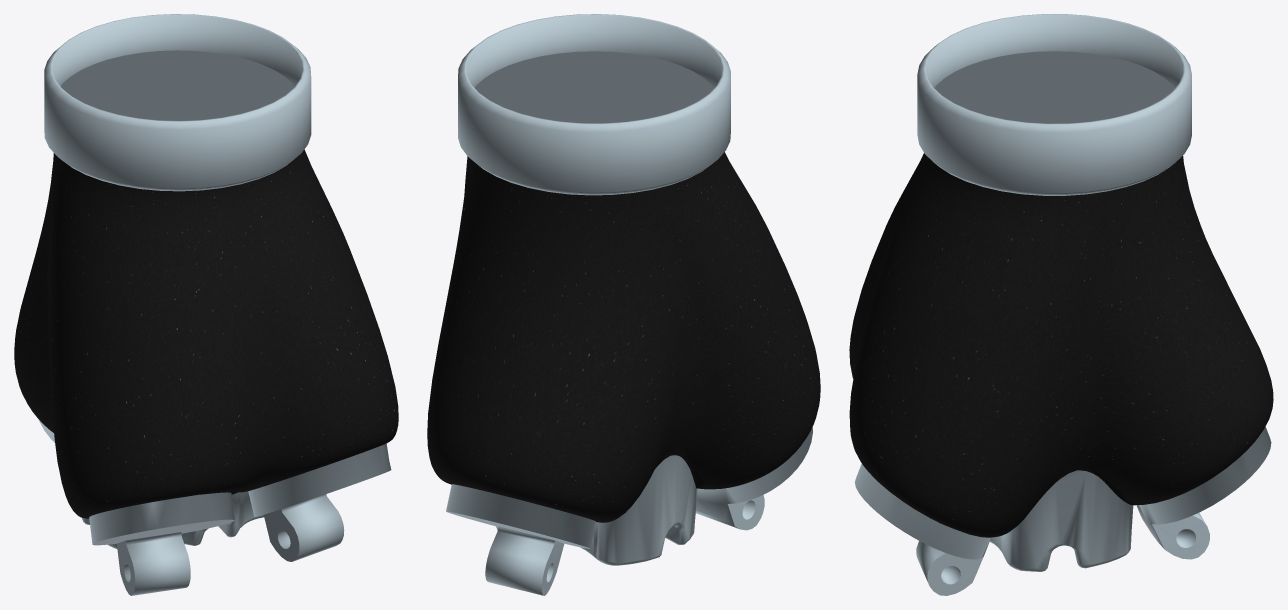
File: hand_3finger.dae
3 renders of one model, left to right at view 1: azimuth 30°, elevation 25°; view 2: azimuth 150°, elevation 25°; view 3: azimuth 270°, elevation 25°, orthographic. The views are drawn at different scales.
Visible parts, largest first — view 1: node.004, Ring Small; view 2: node.004, Ring Small; view 3: node.004, Ring Small.
Boxes of the visible parts, bbox=[...] form: node.004: bbox=[14, 50, 398, 595]; Ring Small: bbox=[44, 14, 311, 191]; node.004: bbox=[427, 51, 820, 595]; Ring Small: bbox=[458, 14, 730, 195]; node.004: bbox=[849, 51, 1273, 595]; Ring Small: bbox=[917, 14, 1191, 195].
Bounding box in the file's own units: 0.0927 × 0.1051 × 0.1308.
Materials: 1 (1 with a texture image).
